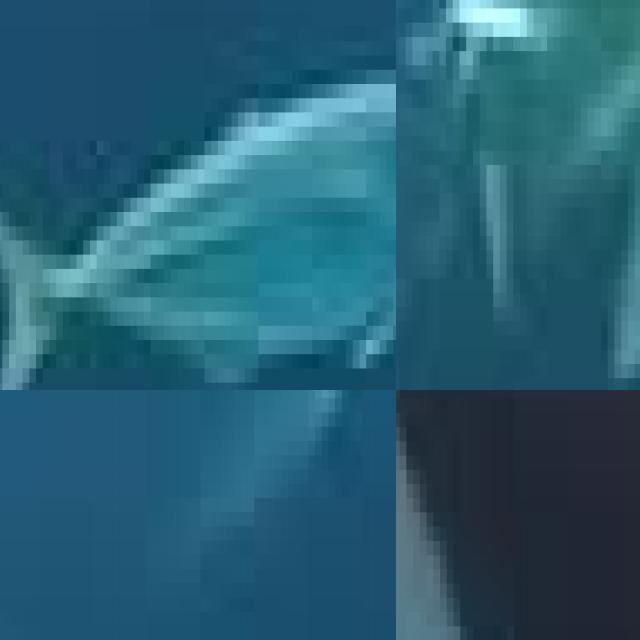fish: (0, 0, 396, 390), (396, 390, 640, 640)
